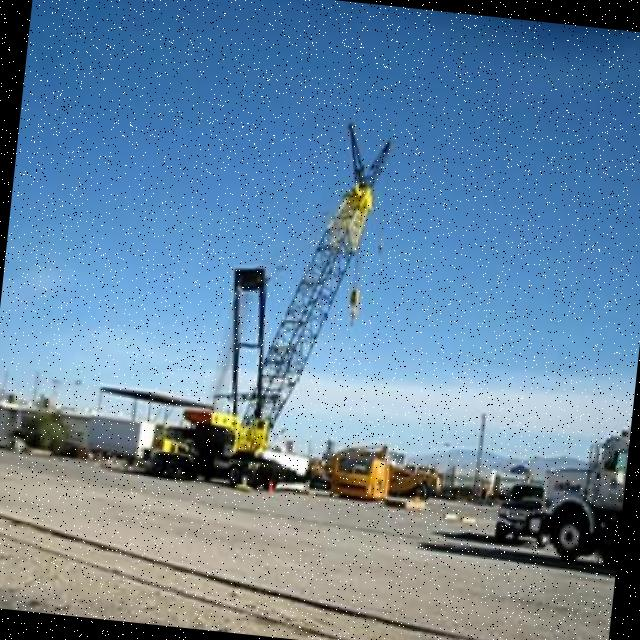Mobile Crane: (146, 104, 392, 494)
